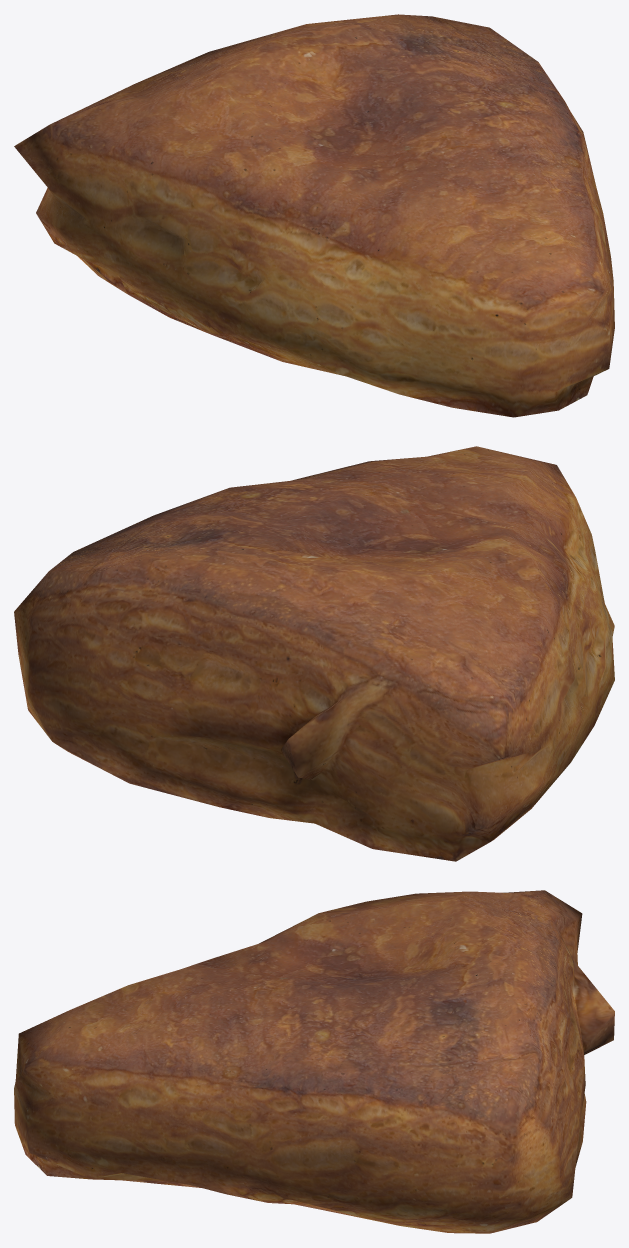
The model's file is 3DBread012_LQ-1K-JPG.obj.
3 renders of one model, top to bottom at view 1: azimuth 30°, elevation 25°; view 2: azimuth 150°, elevation 25°; view 3: azimuth 270°, elevation 25°, orthographic. The views are drawn at different scales.
Visible parts, largest first — view 1: 3DBread012_LQ-1K-JPG; view 2: 3DBread012_LQ-1K-JPG; view 3: 3DBread012_LQ-1K-JPG.
Boxes of the visible parts, x1,y1,x2,y2 form: 3DBread012_LQ-1K-JPG: [14, 14, 614, 417]; 3DBread012_LQ-1K-JPG: [14, 446, 614, 861]; 3DBread012_LQ-1K-JPG: [14, 890, 614, 1233].
Bounding box in the file's own units: 0.1054 × 0.0436 × 0.1177.
Materials: 1 (1 with a texture image).
